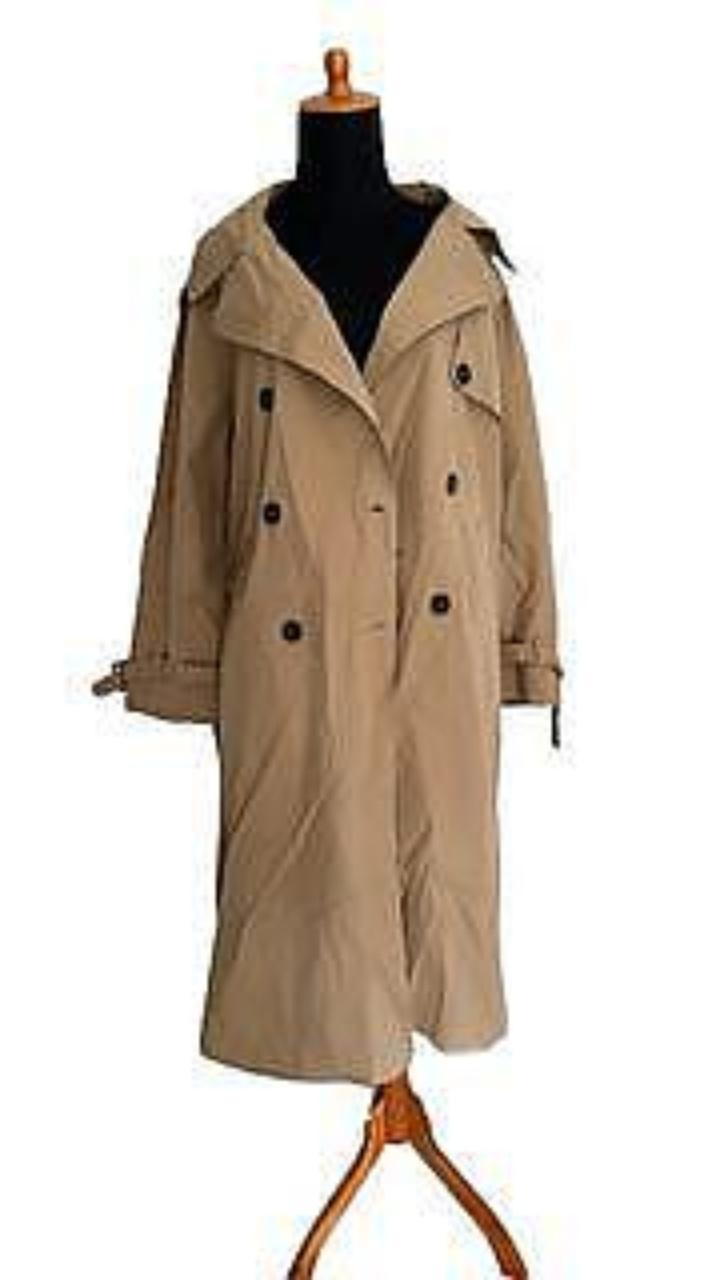Coat: (94, 183, 561, 1083)
